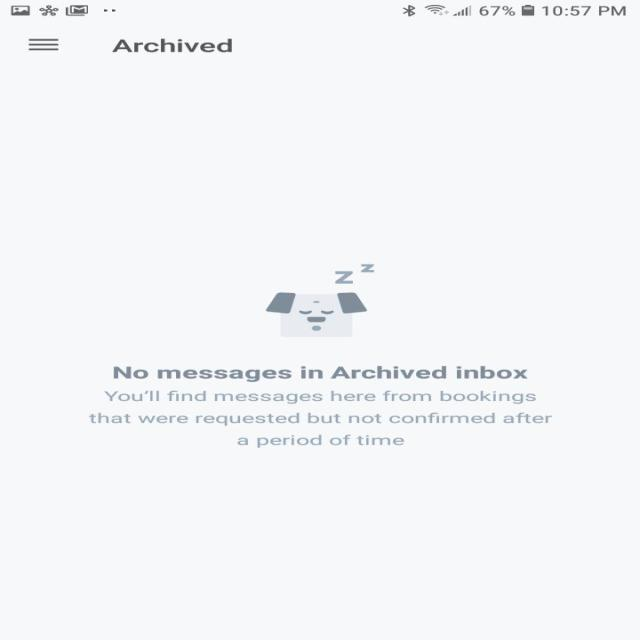Icon: (27, 38, 59, 51)
Image: (264, 264, 374, 337)
Text: (88, 390, 551, 448), (113, 365, 527, 382), (111, 38, 232, 53)
